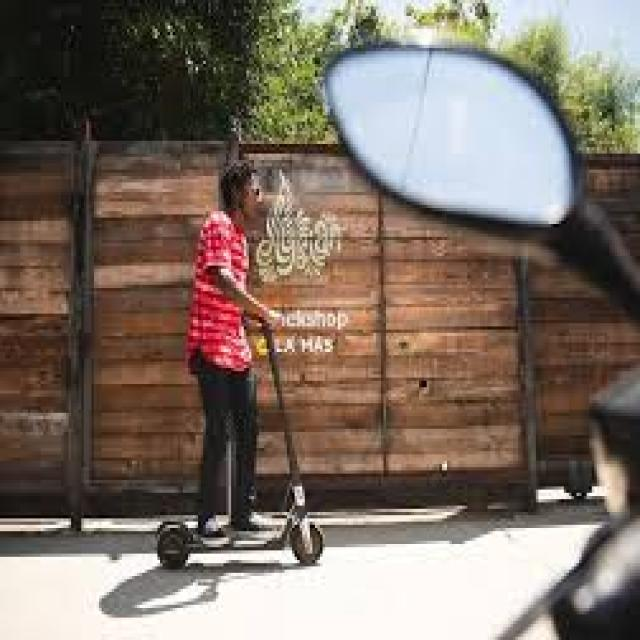non-helmet: (144, 150, 338, 573)
